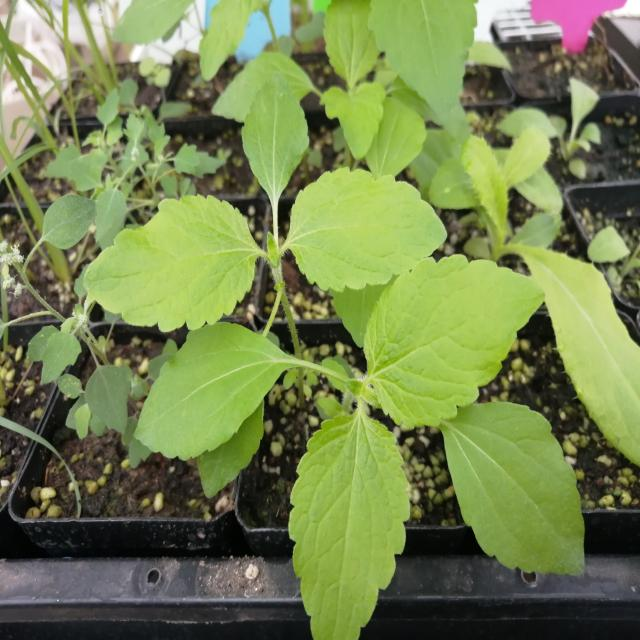billygoat_weed: (134, 225, 599, 627), (101, 79, 435, 389)
